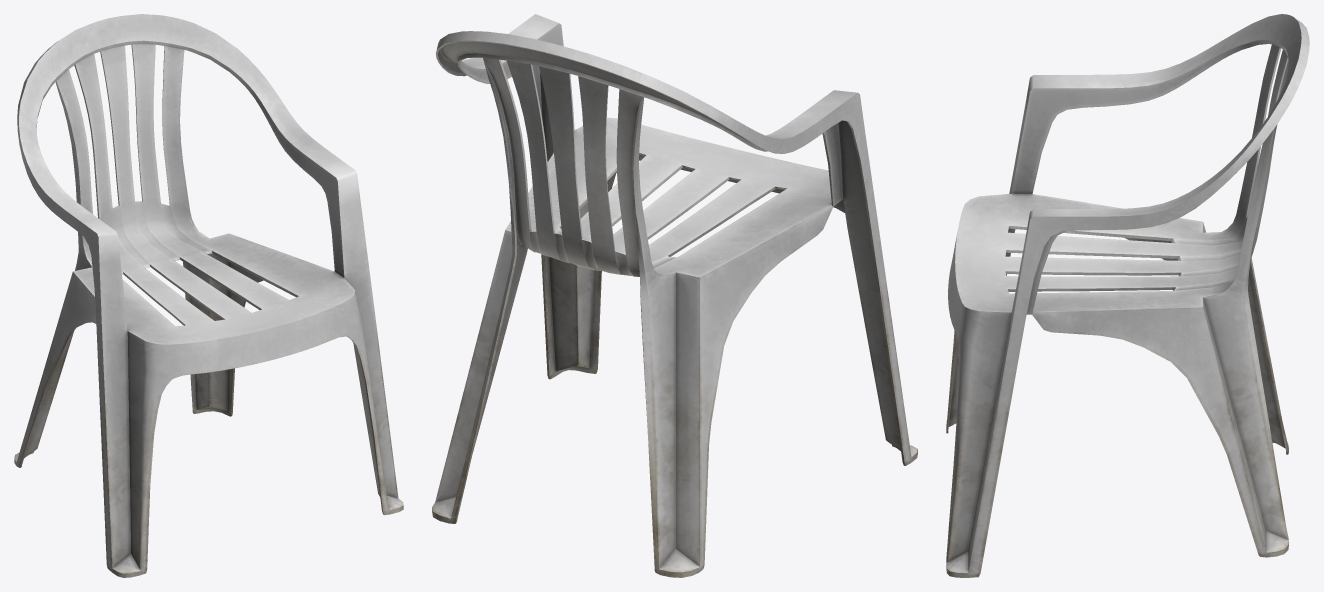
File: plastic_monobloc_chair_01.glb
3 views of the same model, side by side, from view 1: azimuth 30°, elevation 25°; view 2: azimuth 150°, elevation 25°; view 3: azimuth 270°, elevation 25° (orthographic). The views are drawn at different scales.
Visible parts, largest first — view 1: plastic_monobloc_chair_01; view 2: plastic_monobloc_chair_01; view 3: plastic_monobloc_chair_01.
Boxes of the visible parts, x1,y1,x2,y2 form: plastic_monobloc_chair_01: (14, 14, 403, 577); plastic_monobloc_chair_01: (432, 14, 917, 577); plastic_monobloc_chair_01: (946, 14, 1309, 577).
Bounding box in the file's own units: 0.6418 × 0.8798 × 0.6276.
Materials: 1 (1 with a texture image).
